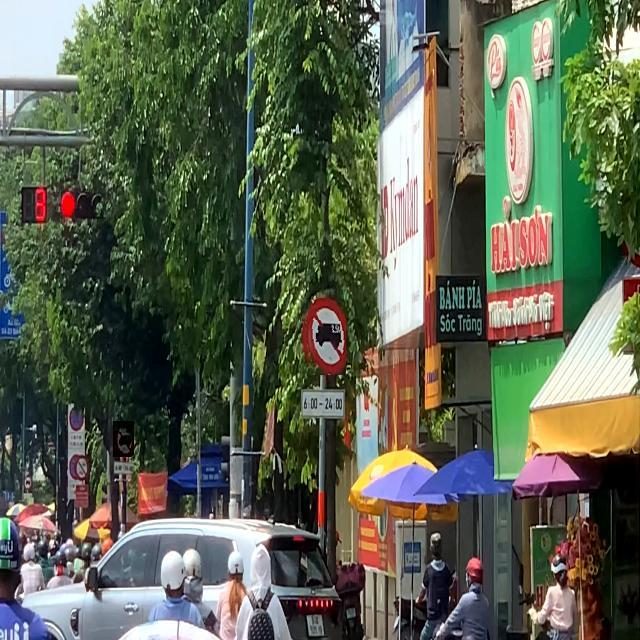P-106b: (302, 295, 346, 375), (113, 421, 134, 457)
